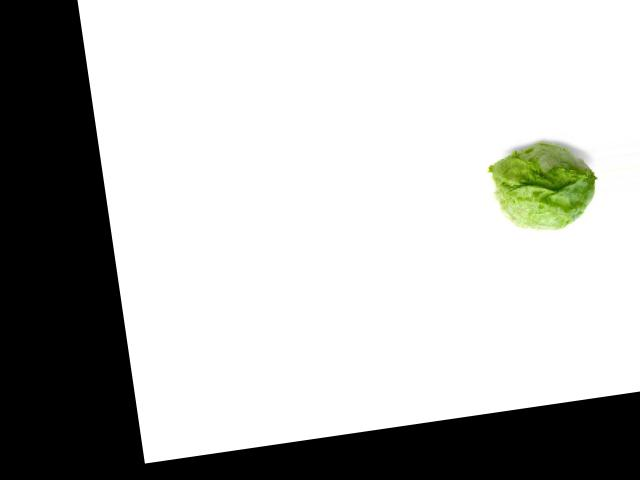lettuce: (486, 130, 602, 244)
